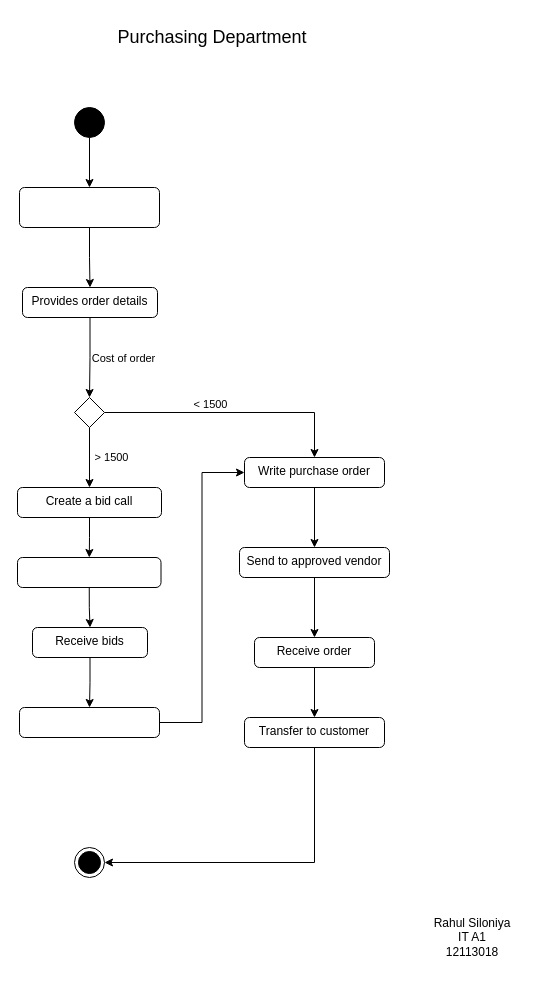
Image size: 555x984. Some labels were removed from this diagram. The shapes that lost their labels are listed below. From the top down, each one's centre as x and y in pixels, then its label:
the point at 89,207: Customer approaches purchasing dept
the point at 88,572: Invite approved vendors
the point at 89,722: Select best bid
